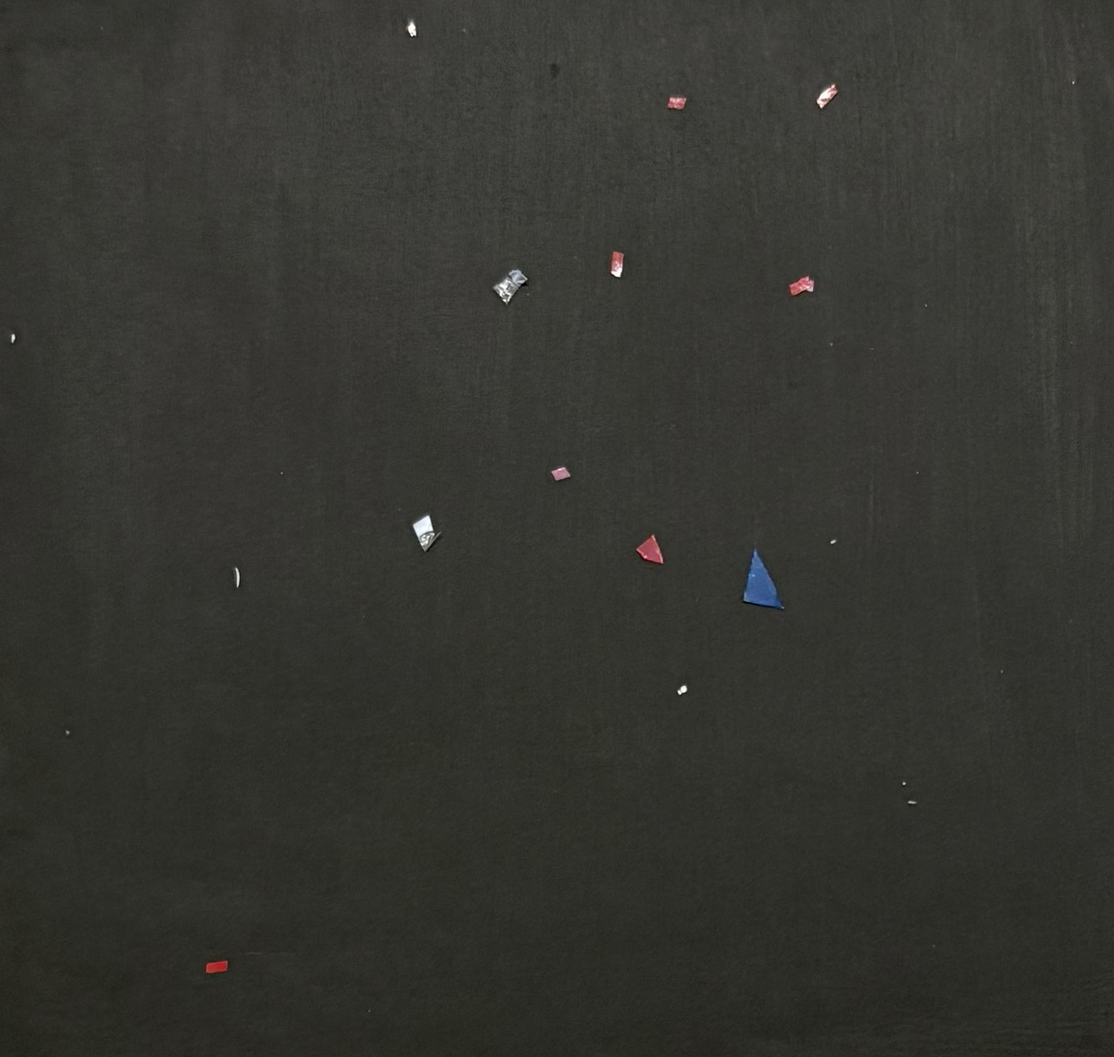Microplastic Particle: (742, 549, 784, 610), (492, 269, 528, 303), (411, 513, 440, 552), (636, 535, 664, 564), (816, 83, 837, 109), (789, 276, 814, 296), (610, 251, 623, 278), (550, 467, 571, 481), (205, 961, 227, 974), (667, 96, 686, 110), (406, 19, 418, 38), (6, 329, 17, 344), (234, 566, 240, 589), (677, 684, 687, 695), (907, 800, 917, 805), (829, 539, 837, 545), (65, 729, 71, 736), (914, 470, 920, 477), (278, 471, 284, 477), (1071, 78, 1075, 85), (924, 303, 929, 308), (902, 781, 907, 785), (829, 343, 834, 346), (462, 29, 466, 32), (871, 348, 875, 350)
